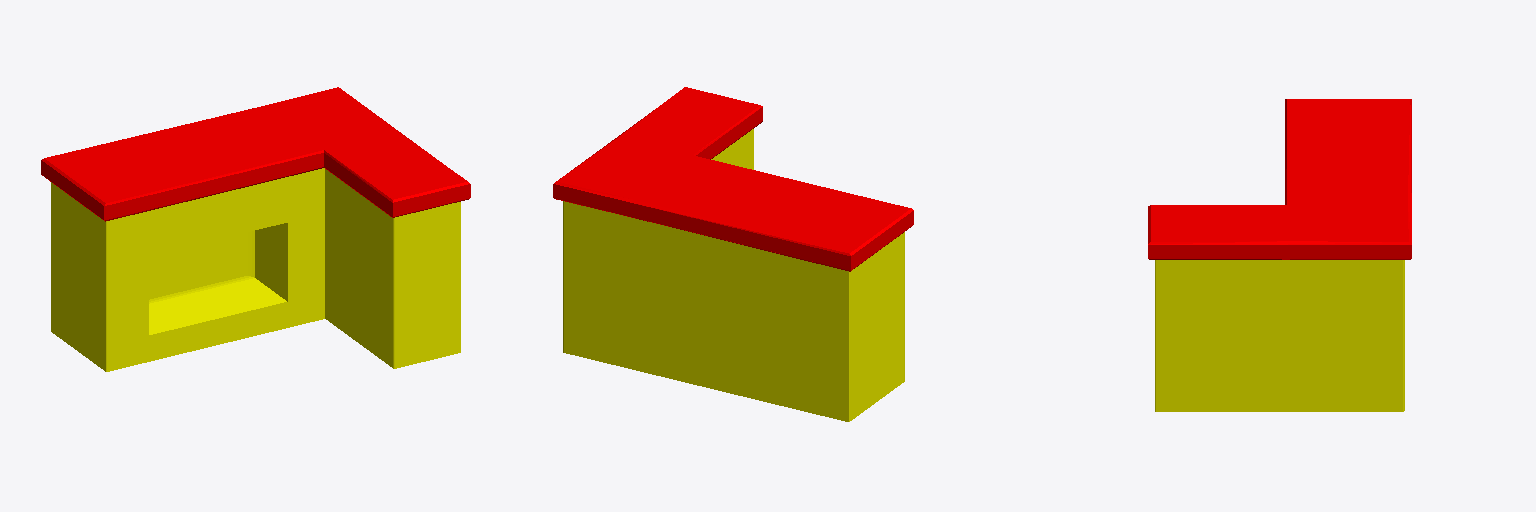
The model's file is TableOBJ.obj.
3 views of the same model, side by side, from view 1: azimuth 30°, elevation 25°; view 2: azimuth 150°, elevation 25°; view 3: azimuth 270°, elevation 25° (orthographic).
Parts seen in each view (by area): view 1: Base, Counter; view 2: Base, Counter; view 3: Base, Counter.
Boxes of the visible parts, <box> form: Base: <box>51,168,460,371</box>; Counter: <box>41,87,470,221</box>; Base: <box>563,129,904,421</box>; Counter: <box>553,87,913,271</box>; Base: <box>1155,260,1404,411</box>; Counter: <box>1148,99,1411,259</box>.
Bounding box in the file's own units: 23.59 × 13.01 × 18.07.